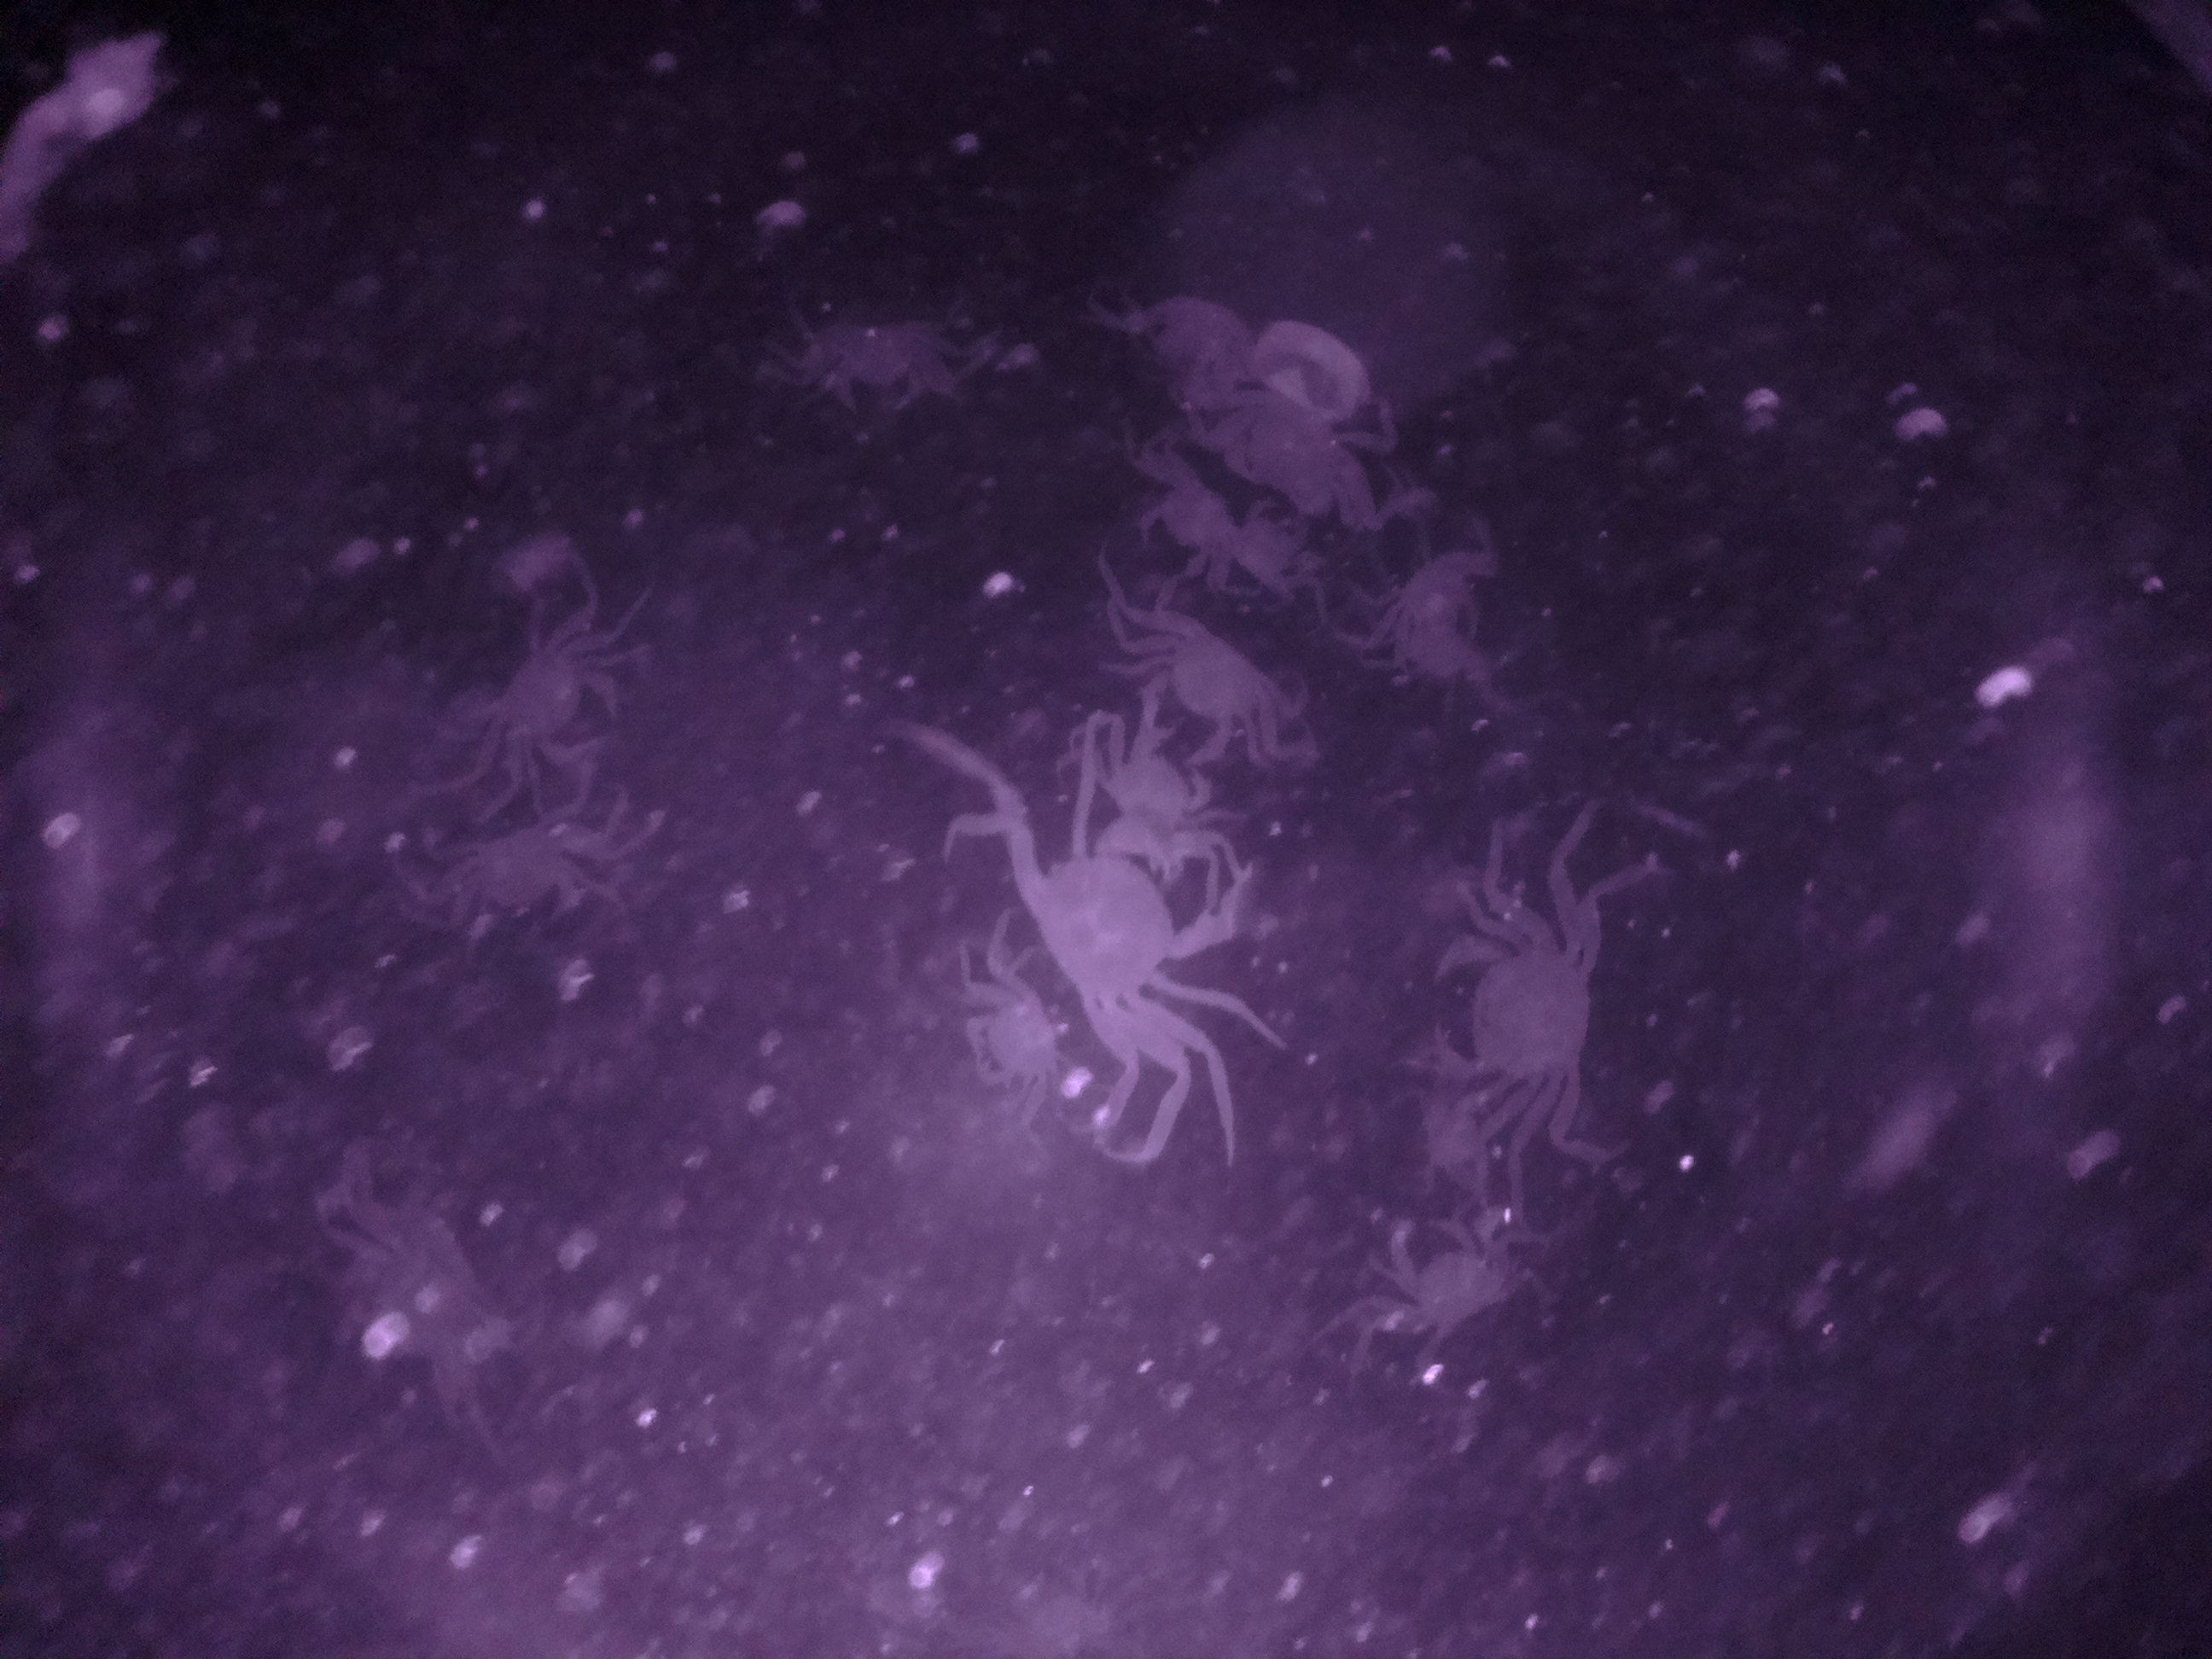Crab: (977, 807, 1266, 1039), (1395, 908, 1641, 1121), (1103, 594, 1324, 791), (474, 622, 639, 798)
